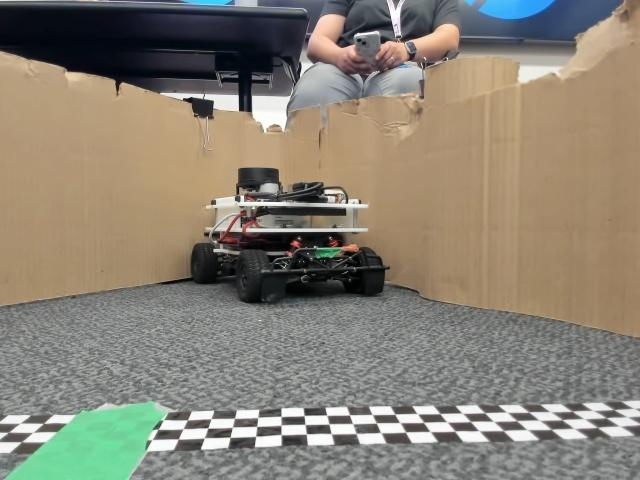Car: (188, 166, 385, 301)
